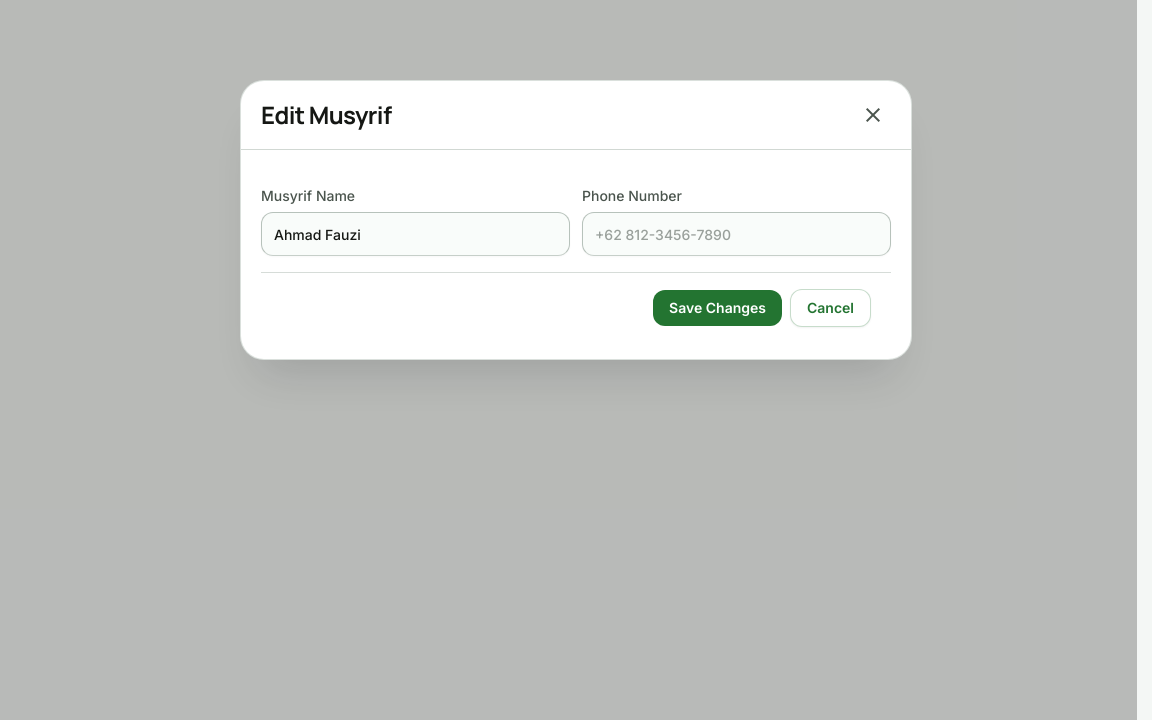
MusyrifModal › validation › should show validation error when phone is empty
The image size is (1152, 720).
Click the button "Save Changes" at (718,308), box left=653, top=290, right=782, bottom=326
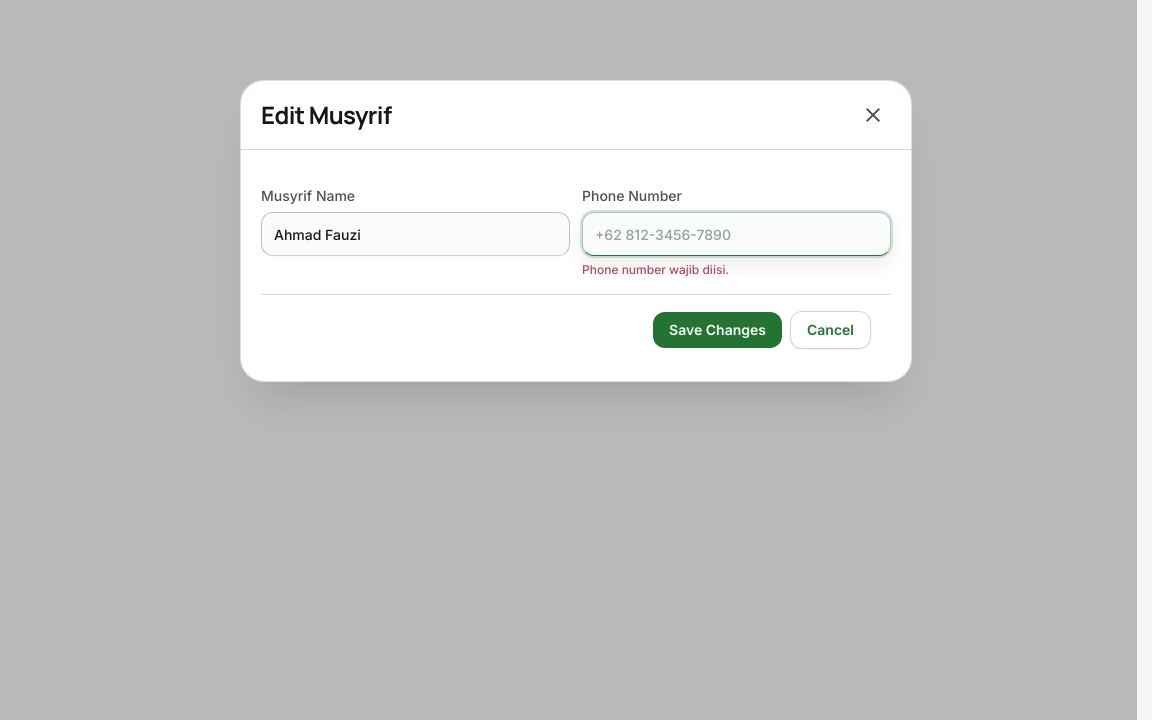
Expected: the text "Phone number wajib diisi." is shown, left=582, top=262, right=729, bottom=277
